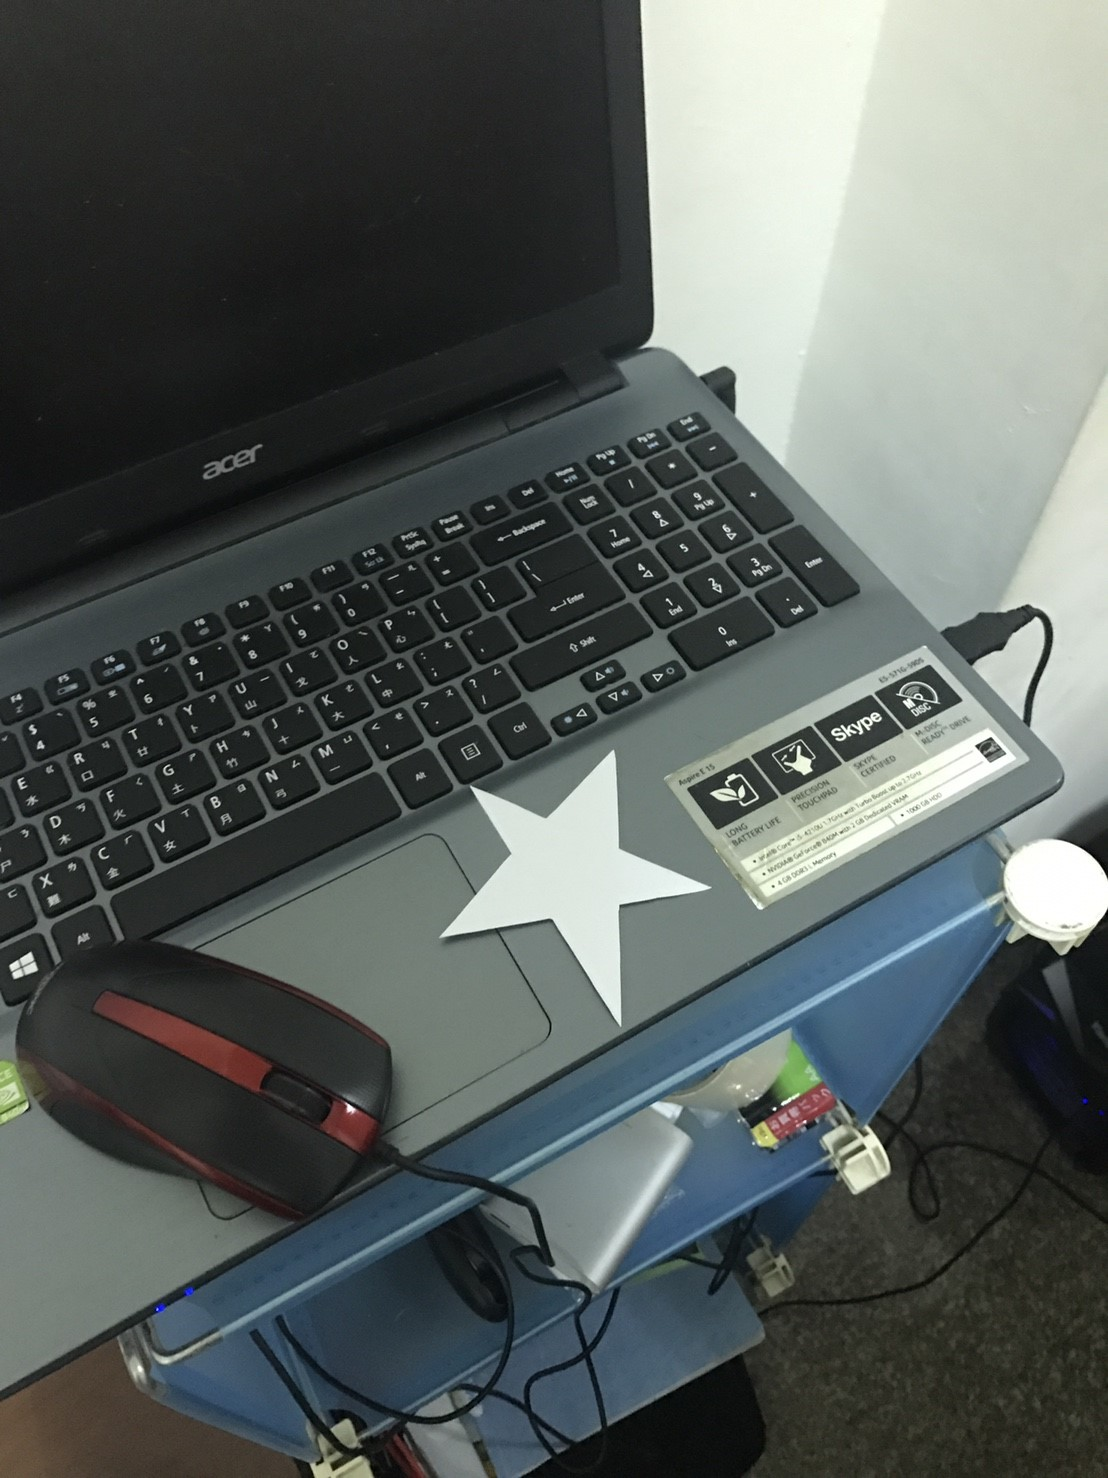star: (436, 738, 739, 1052)
